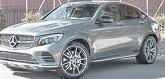Crossovers: (1, 3, 160, 79)
